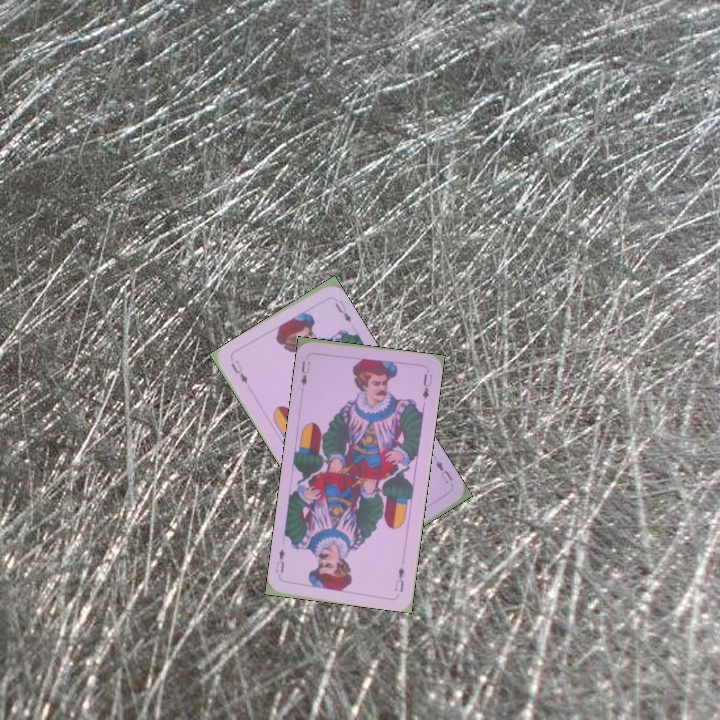EU: (226, 356, 250, 387), (432, 456, 455, 487), (296, 357, 313, 388), (391, 563, 407, 594)
